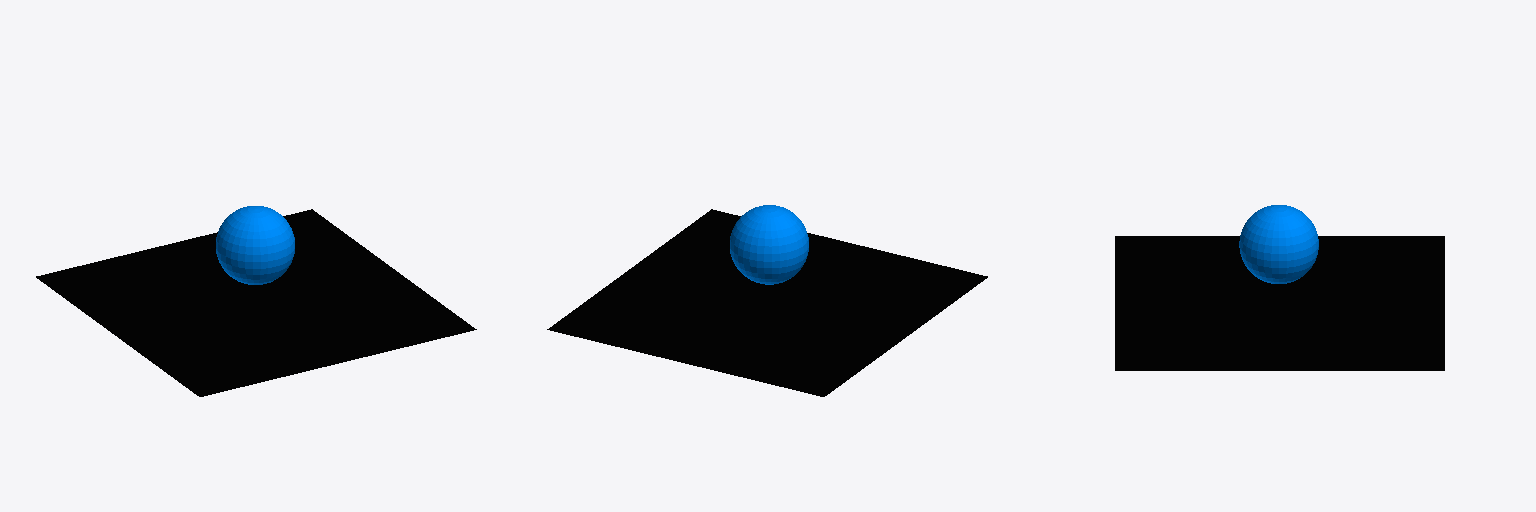
File: normaleext.obj
3 renders of one model, left to right at view 1: azimuth 30°, elevation 25°; view 2: azimuth 150°, elevation 25°; view 3: azimuth 270°, elevation 25°, orthographic.
Parts seen in each view (by area): view 1: Plane001, Sphere001; view 2: Plane001, Sphere001; view 3: Plane001, Sphere001.
Part boxes in pixels (x1,y1,x2,y2): Plane001: (36, 209, 476, 396); Sphere001: (216, 206, 294, 284); Plane001: (547, 209, 987, 396); Sphere001: (730, 205, 808, 284); Plane001: (1115, 236, 1444, 370); Sphere001: (1239, 205, 1318, 283).
Size of the model in its own units: 16396 by 5350 by 16878.